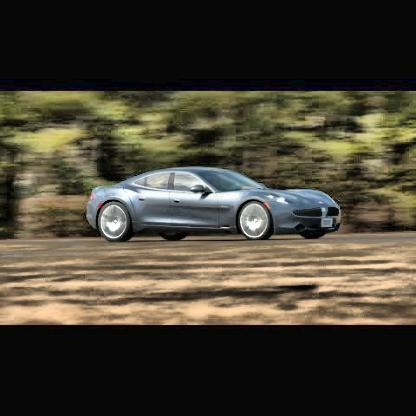Fisker Karma Sedan 2012: (87, 166, 344, 245)
